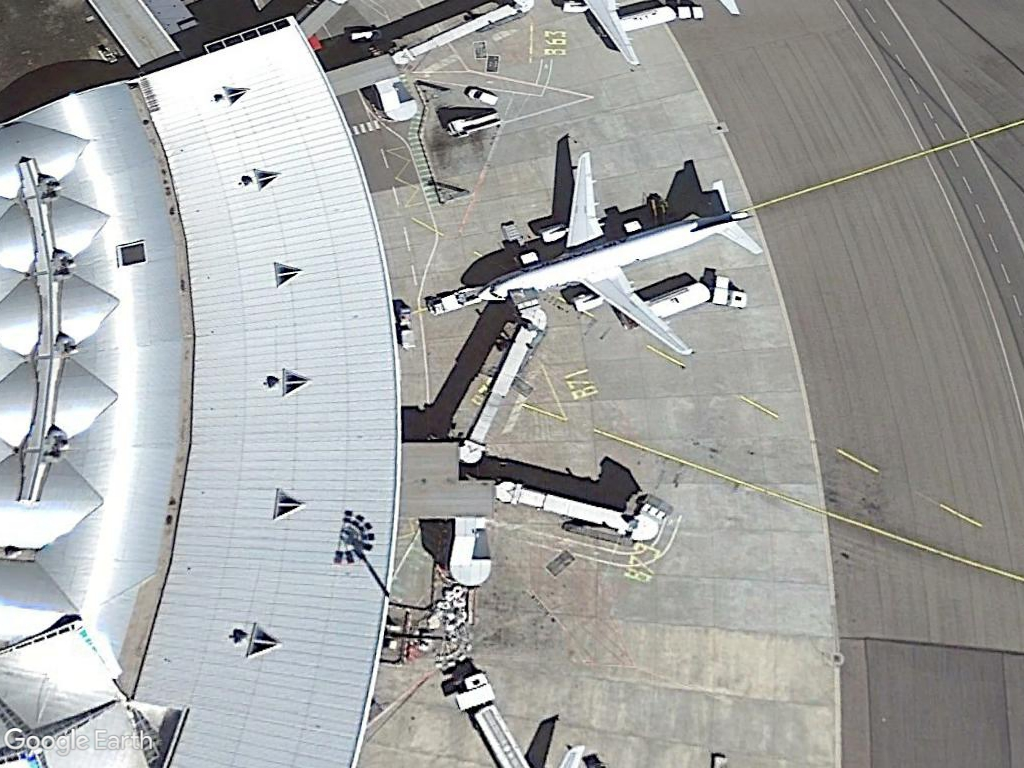airliner: (471, 155, 771, 357)
pushbacktruck: (423, 284, 484, 317)
